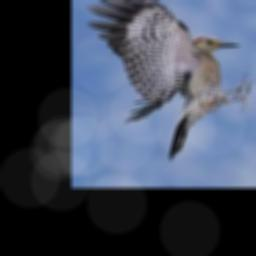Woodpecker: (86, 0, 253, 160)
